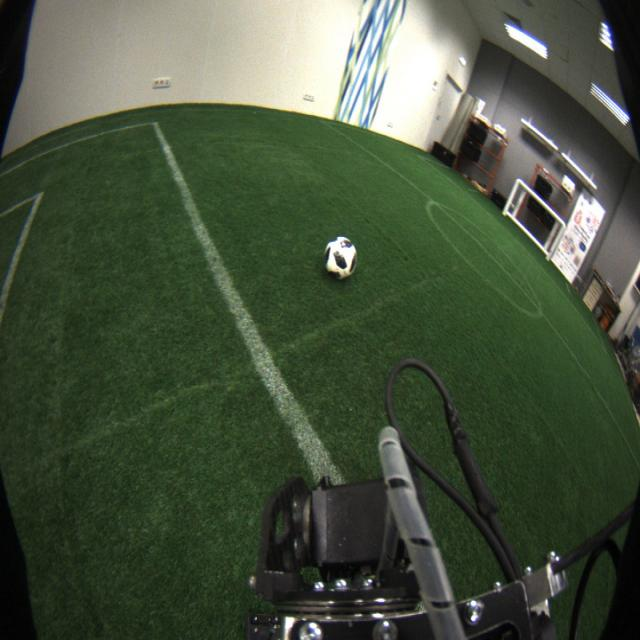ball: (322, 236, 358, 282)
goalpost: (548, 222, 568, 260), (502, 178, 521, 217)
